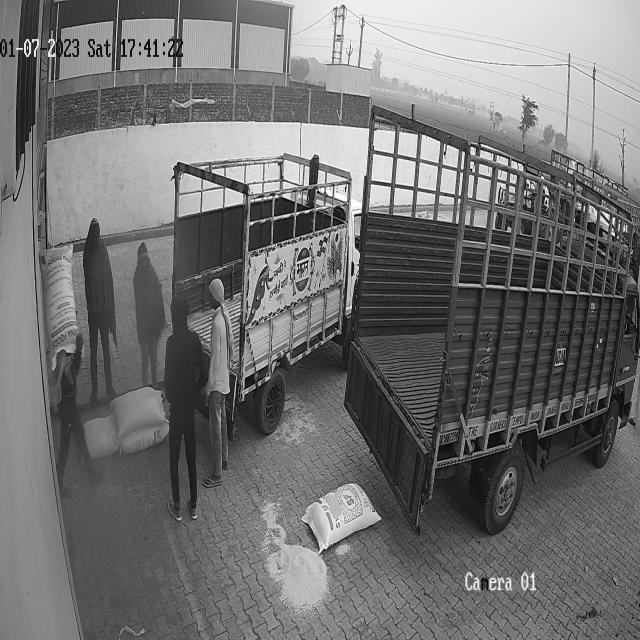sack: (302, 482, 380, 553), (39, 245, 80, 370), (109, 387, 165, 437), (82, 413, 119, 461), (119, 420, 169, 454)
